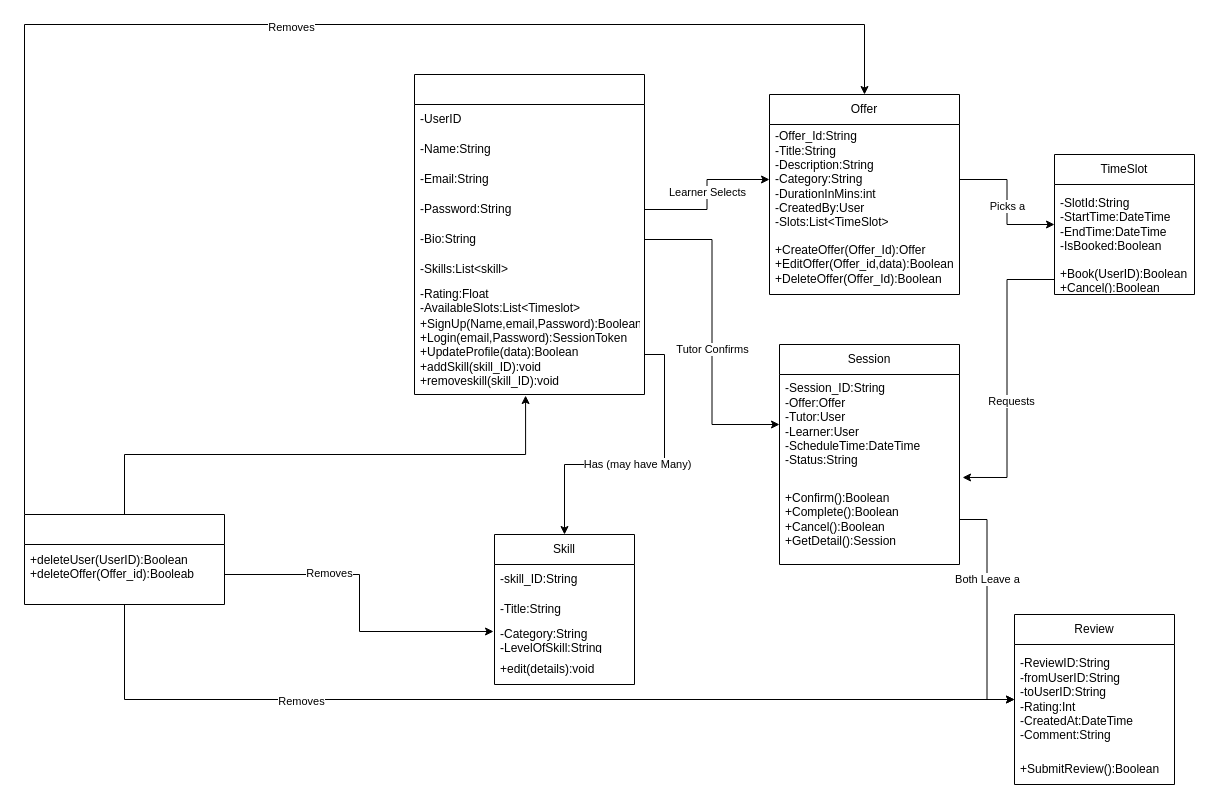
The diagram is 1212 pixels wide and 802 high, and some of its shapes have lost their labels. Each missing label, with the box of its shape:
Admin: (24, 514, 224, 604)
User(Learner/Tutor): (414, 74, 644, 394)
